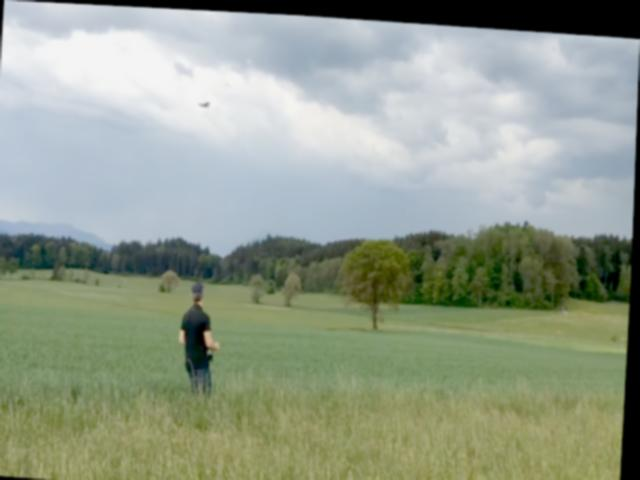plane: (199, 99, 211, 106)
